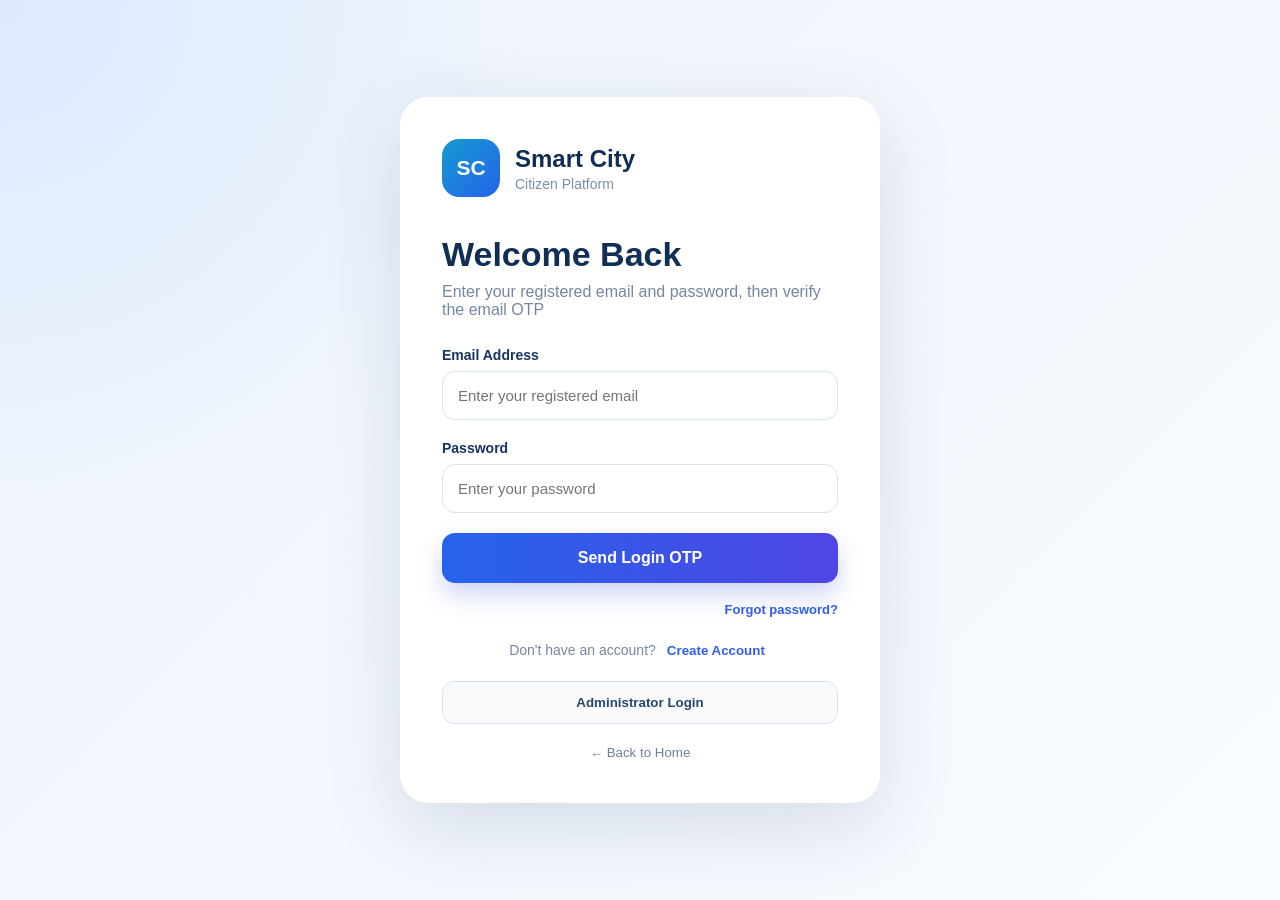
Test: malformed email and missing password never reach the API
Type "invalid-email" into the field labelled "Email Address".
click(640, 396); type("invalid-email")  # box [442,371,838,420]
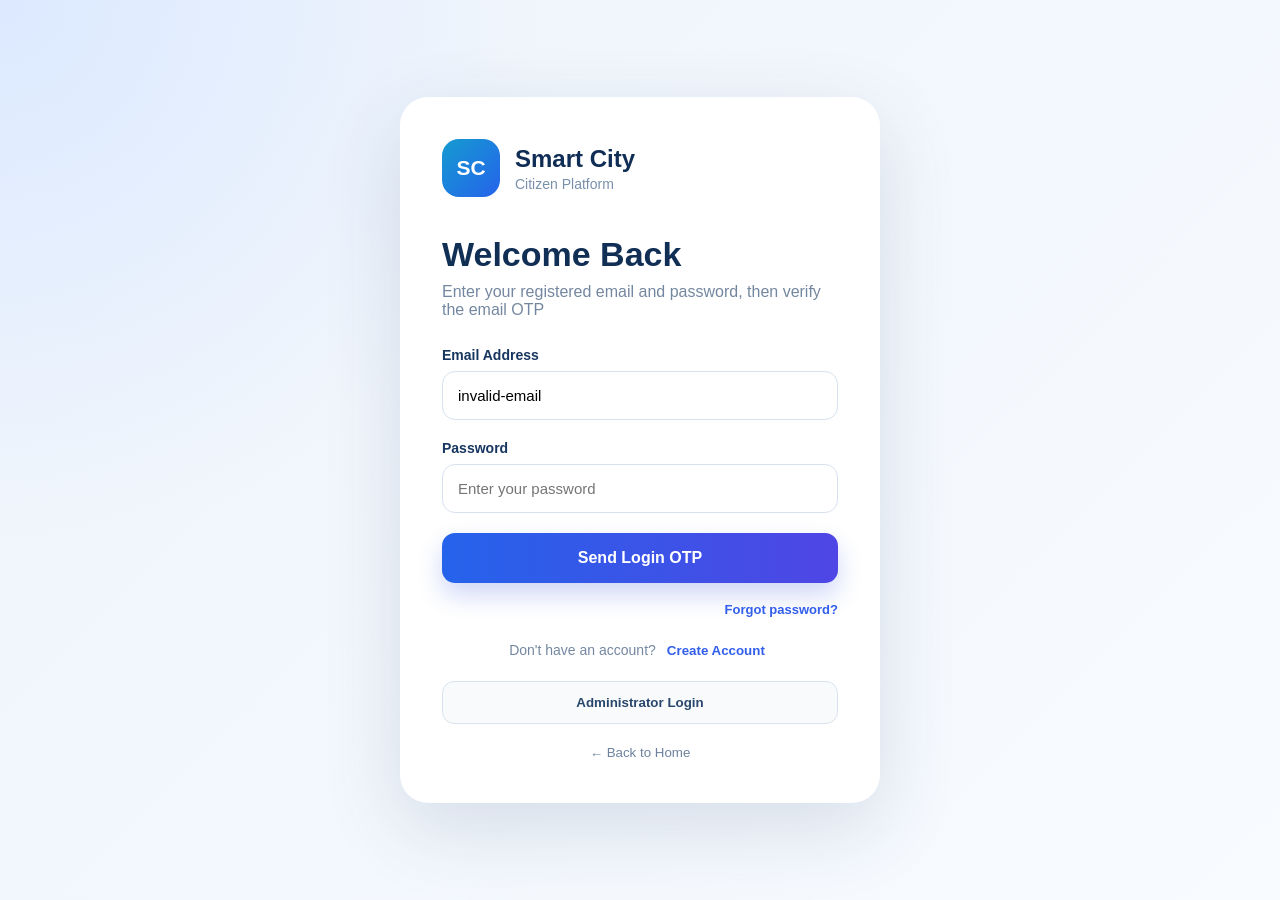
Click the button "Send Login OTP".
click(640, 558)  # box [442,533,838,583]
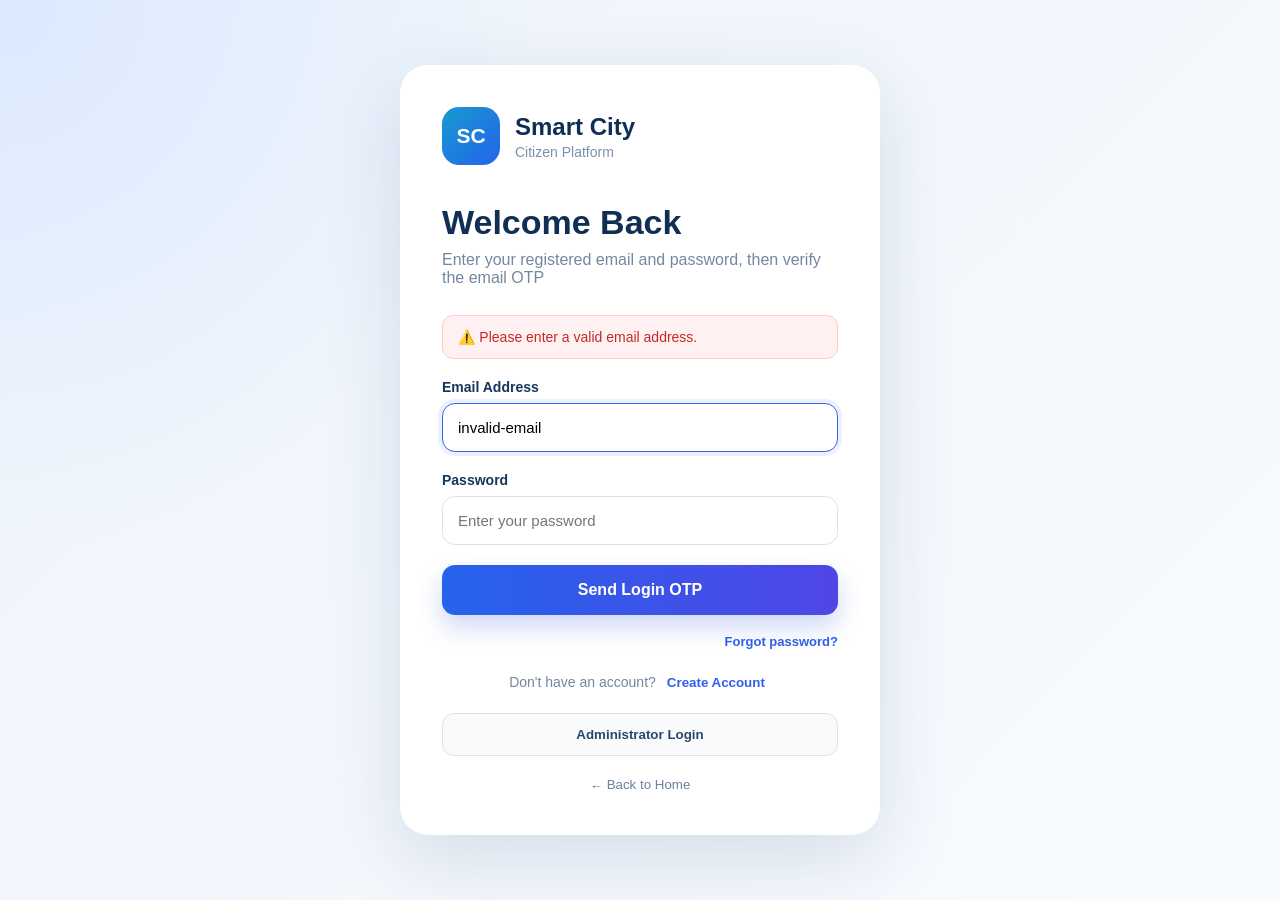
Now the message shows "valid email address", box [479,329,697,345]
Replace the text in the field labelled "Email Address" with "citizen@example.com" at (640, 428), box [442,403,838,452]
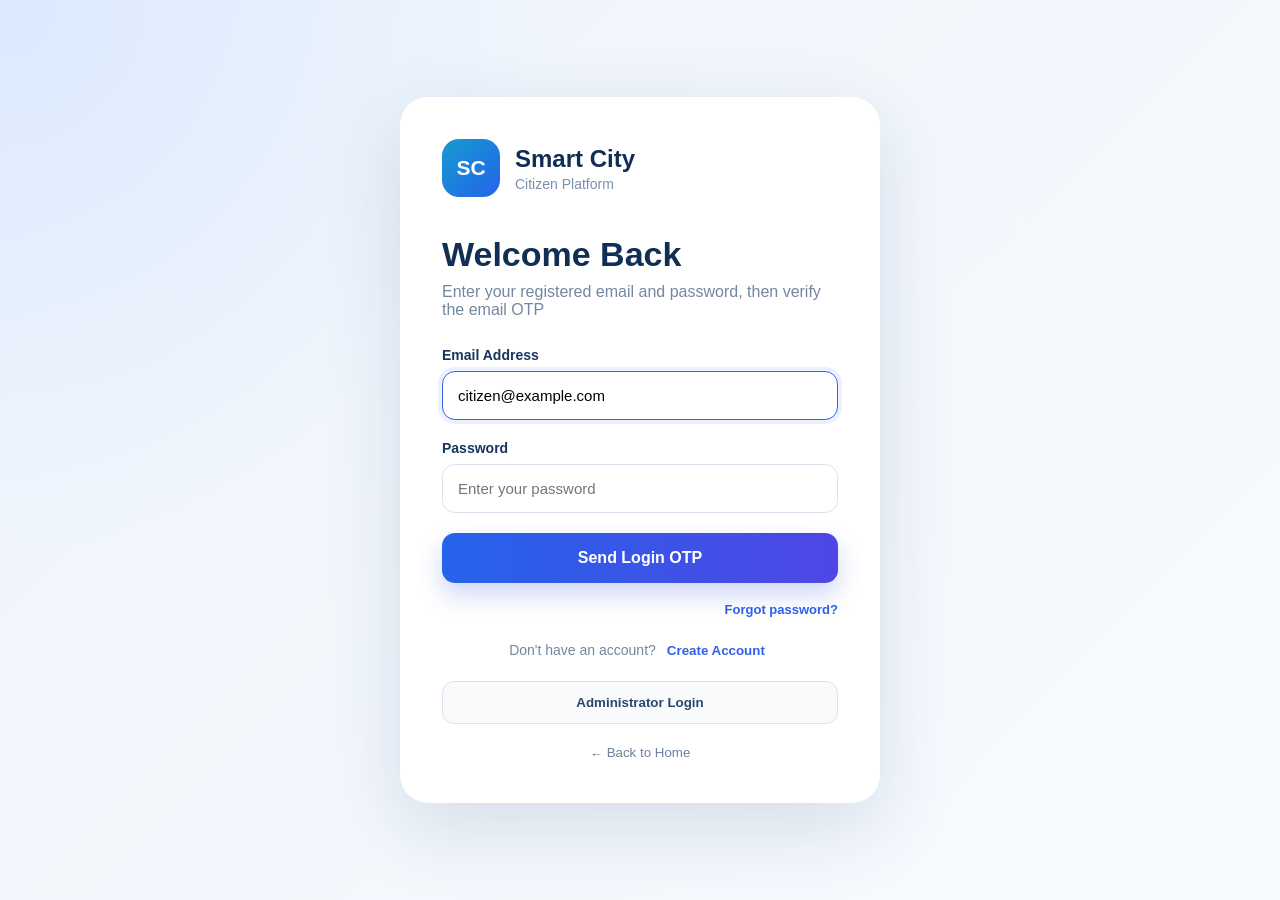
Click the button "Send Login OTP".
click(640, 558)  # box [442,533,838,583]
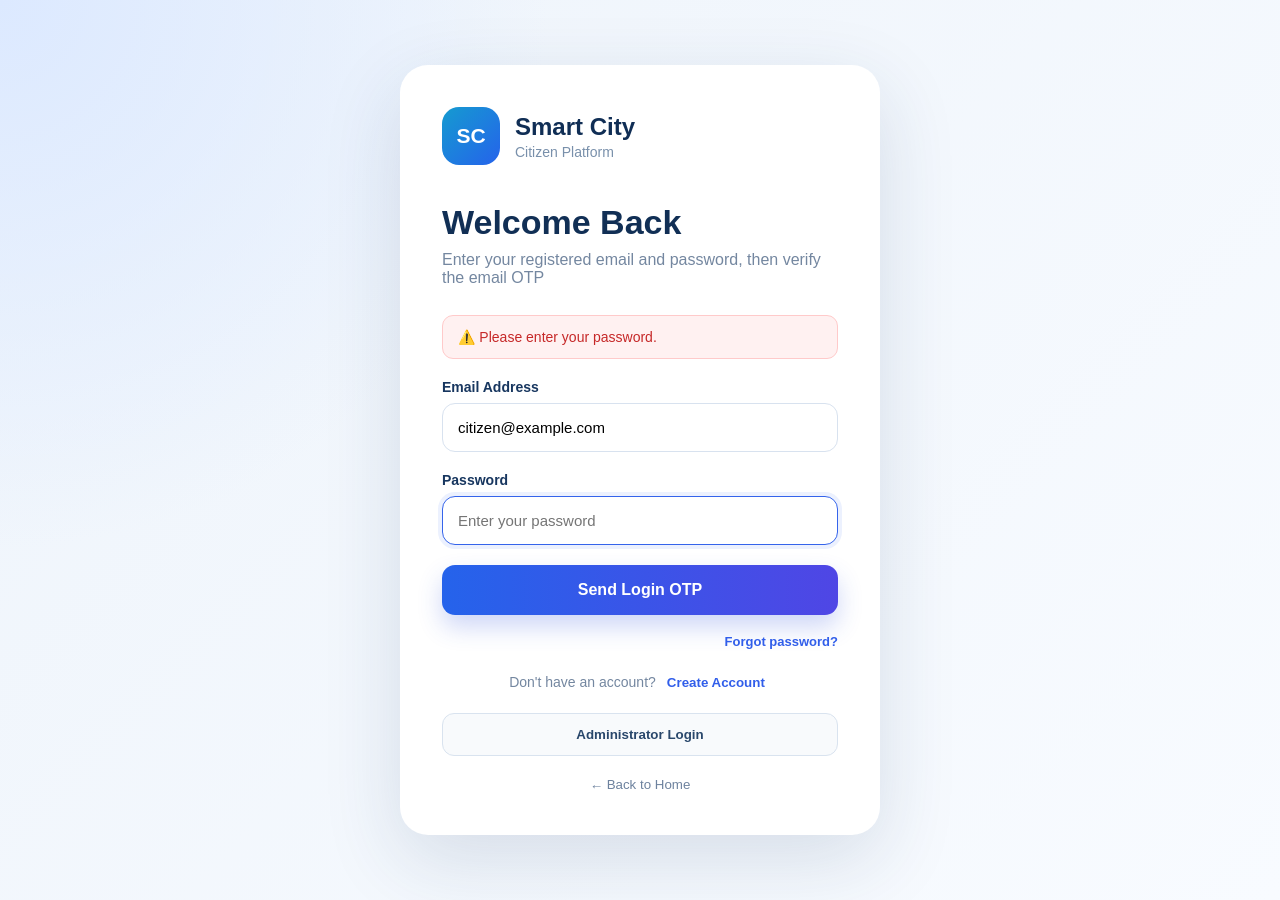
Now the message shows "Please enter your password.", box [479,329,657,345]
